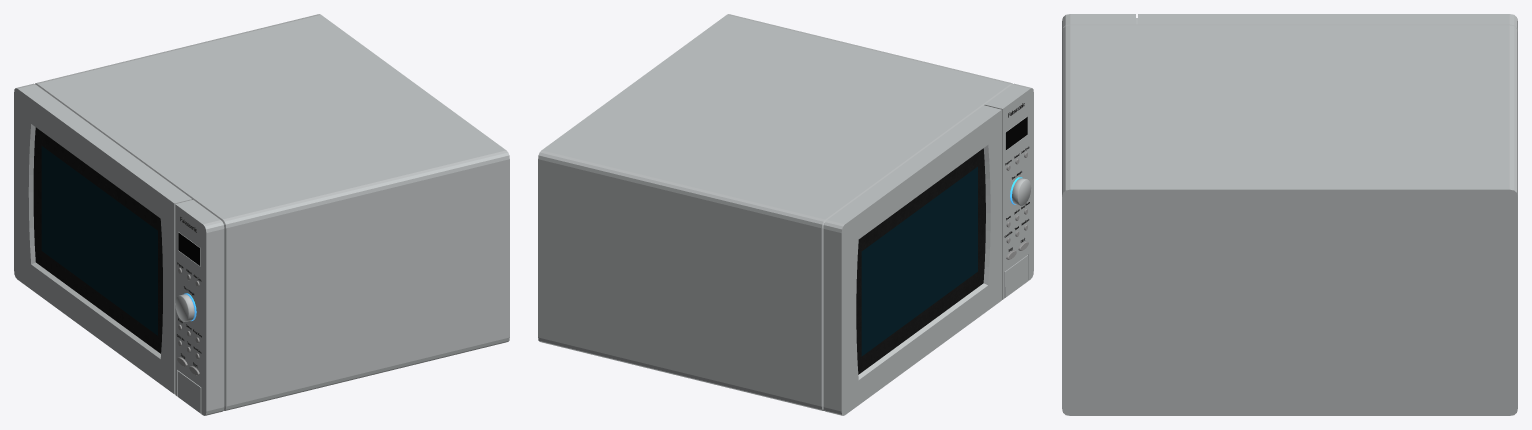
The picture shows the model from 3 angles, left to right: view 1: azimuth 30°, elevation 25°; view 2: azimuth 150°, elevation 25°; view 3: azimuth 270°, elevation 25°; orthographic projection. The views are drawn at different scales.
Visible parts, largest first — view 1: microwavebase, dark, glass-1; view 2: microwavebase, dark, glass-1; view 3: microwavebase.
Part boxes in pixels (box(x1,y1,x2,y2)): microwavebase: box(14, 14, 509, 415); dark: box(41, 146, 157, 335); glass-1: box(33, 127, 162, 353); microwavebase: box(538, 14, 1033, 415); dark: box(861, 166, 977, 356); glass-1: box(856, 148, 985, 374); microwavebase: box(1062, 14, 1517, 415).
Size of the model in its own units: 1.87 by 1.14 by 2.
Materials: 9 (8 with a texture image).
